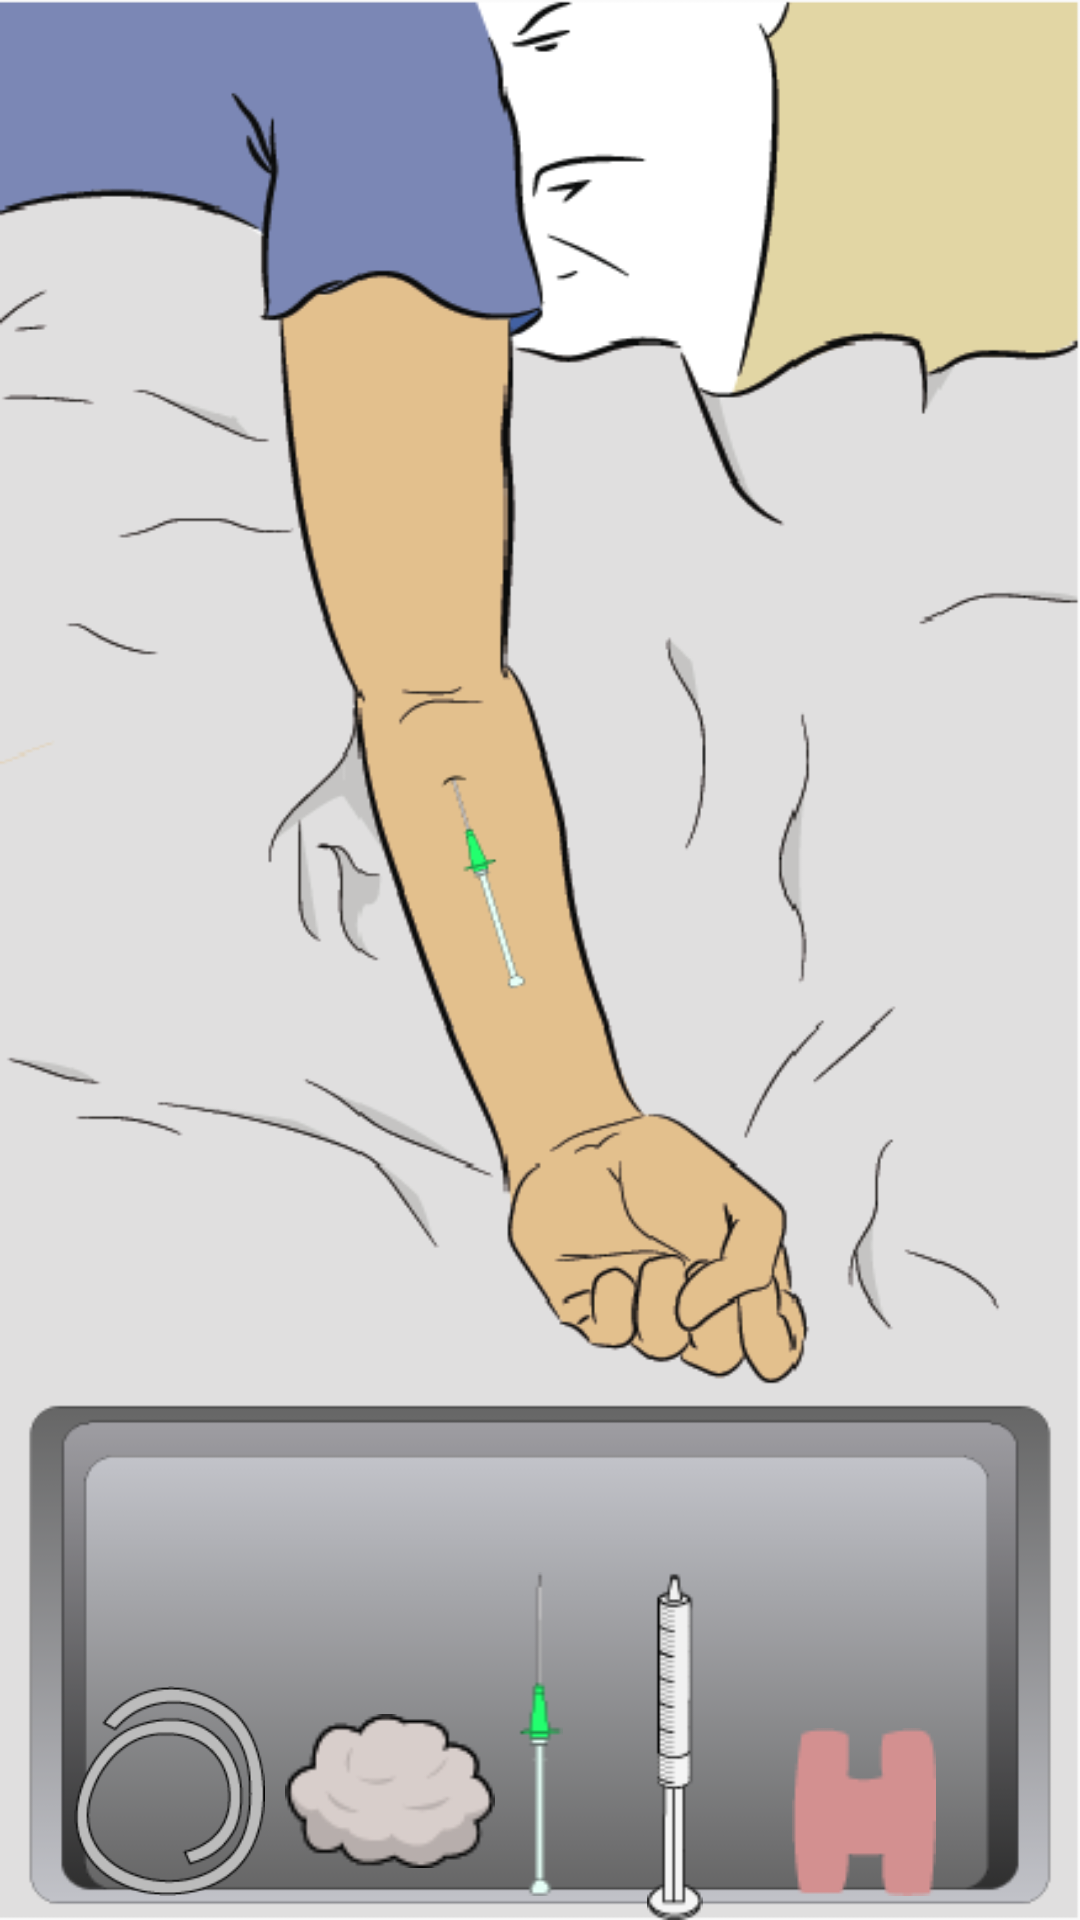

Named icons in this screenshot (1080 × 1920) and their centers, point (x, y):
adesivo: point (864, 1812)
algodao: point (390, 1791)
cateter: point (540, 1734)
garrote: point (169, 1791)
seringa: point (675, 1746)
